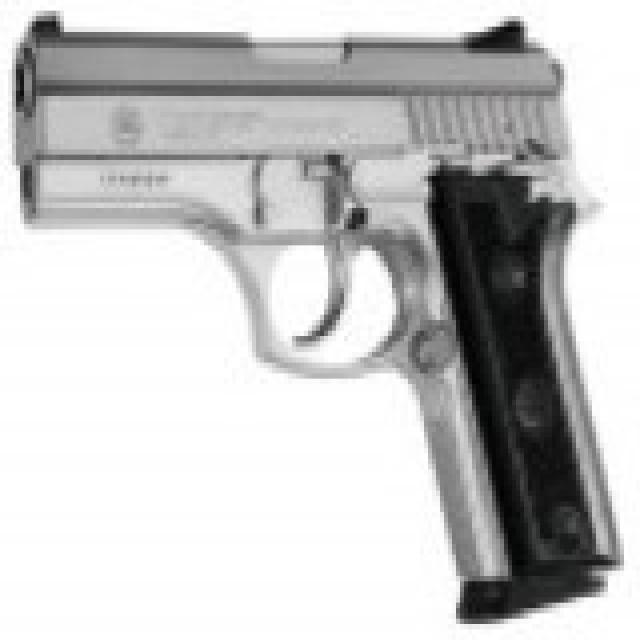Gun: (19, 11, 610, 609)
